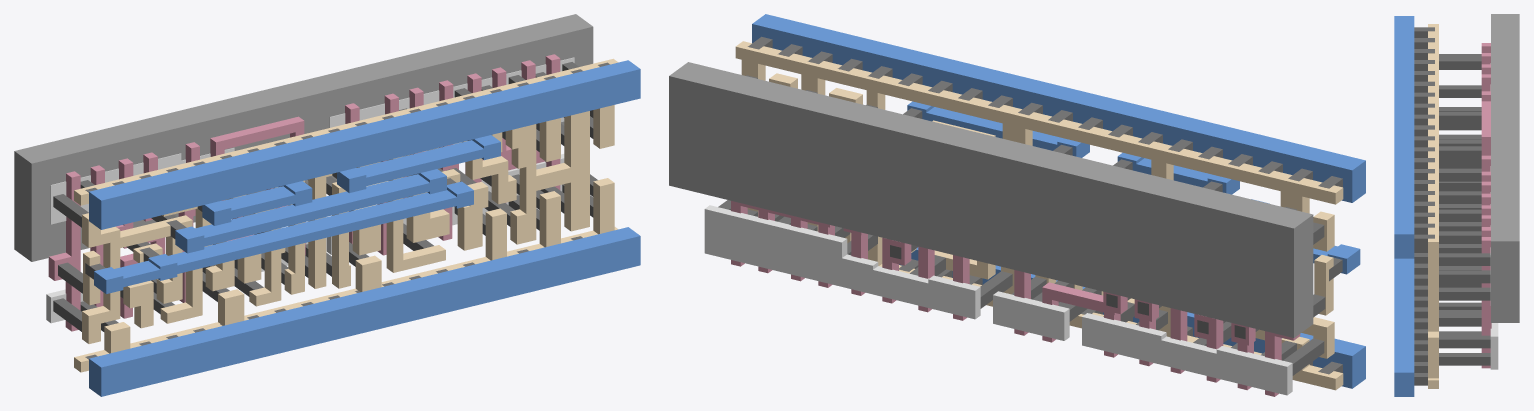
File: sky130_fd_sc_hd__mux4_4.gds.gltf
The picture shows the model from 3 angles, left to right: view 1: azimuth 30°, elevation 25°; view 2: azimuth 150°, elevation 25°; view 3: azimuth 270°, elevation 25°; orthographic projection. The views are drawn at different scales.
Parts seen in each view (by area): view 1: sky130_fd_sc_hd__mux4_4_met1, sky130_fd_sc_hd__mux4_4_li1, sky130_fd_sc_hd__mux4_4_nwell, sky130_fd_sc_hd__mux4_4_poly, sky130_fd_sc_hd__mux4_4_licon, sky130_fd_sc_hd__mux4_4_diff, sky130_fd_sc_hd__mux4_4_mcon; view 2: sky130_fd_sc_hd__mux4_4_nwell, sky130_fd_sc_hd__mux4_4_met1, sky130_fd_sc_hd__mux4_4_diff, sky130_fd_sc_hd__mux4_4_li1, sky130_fd_sc_hd__mux4_4_poly, sky130_fd_sc_hd__mux4_4_mcon, sky130_fd_sc_hd__mux4_4_licon; view 3: sky130_fd_sc_hd__mux4_4_licon, sky130_fd_sc_hd__mux4_4_nwell, sky130_fd_sc_hd__mux4_4_met1, sky130_fd_sc_hd__mux4_4_mcon, sky130_fd_sc_hd__mux4_4_li1, sky130_fd_sc_hd__mux4_4_poly, sky130_fd_sc_hd__mux4_4_diff.
Part boxes in pixels (x1,y1,x2,y2): sky130_fd_sc_hd__mux4_4_met1: [89, 60, 640, 396]; sky130_fd_sc_hd__mux4_4_li1: [74, 58, 618, 372]; sky130_fd_sc_hd__mux4_4_nwell: [14, 14, 593, 261]; sky130_fd_sc_hd__mux4_4_poly: [48, 54, 560, 331]; sky130_fd_sc_hd__mux4_4_licon: [53, 62, 597, 331]; sky130_fd_sc_hd__mux4_4_diff: [46, 57, 574, 323]; sky130_fd_sc_hd__mux4_4_mcon: [85, 62, 609, 359]; sky130_fd_sc_hd__mux4_4_nwell: [669, 62, 1313, 337]; sky130_fd_sc_hd__mux4_4_met1: [752, 14, 1365, 388]; sky130_fd_sc_hd__mux4_4_diff: [704, 205, 1292, 395]; sky130_fd_sc_hd__mux4_4_li1: [735, 41, 1343, 390]; sky130_fd_sc_hd__mux4_4_poly: [731, 201, 1300, 396]; sky130_fd_sc_hd__mux4_4_mcon: [748, 36, 1342, 374]; sky130_fd_sc_hd__mux4_4_licon: [718, 75, 1325, 375]; sky130_fd_sc_hd__mux4_4_licon: [1439, 54, 1490, 365]; sky130_fd_sc_hd__mux4_4_nwell: [1491, 14, 1519, 322]; sky130_fd_sc_hd__mux4_4_met1: [1394, 16, 1414, 396]; sky130_fd_sc_hd__mux4_4_mcon: [1414, 27, 1434, 385]; sky130_fd_sc_hd__mux4_4_li1: [1428, 24, 1438, 388]; sky130_fd_sc_hd__mux4_4_poly: [1481, 43, 1491, 368]; sky130_fd_sc_hd__mux4_4_diff: [1490, 63, 1498, 369].
Bounding box in the file's own units: 9.58 × 3.2 × 2.24.
